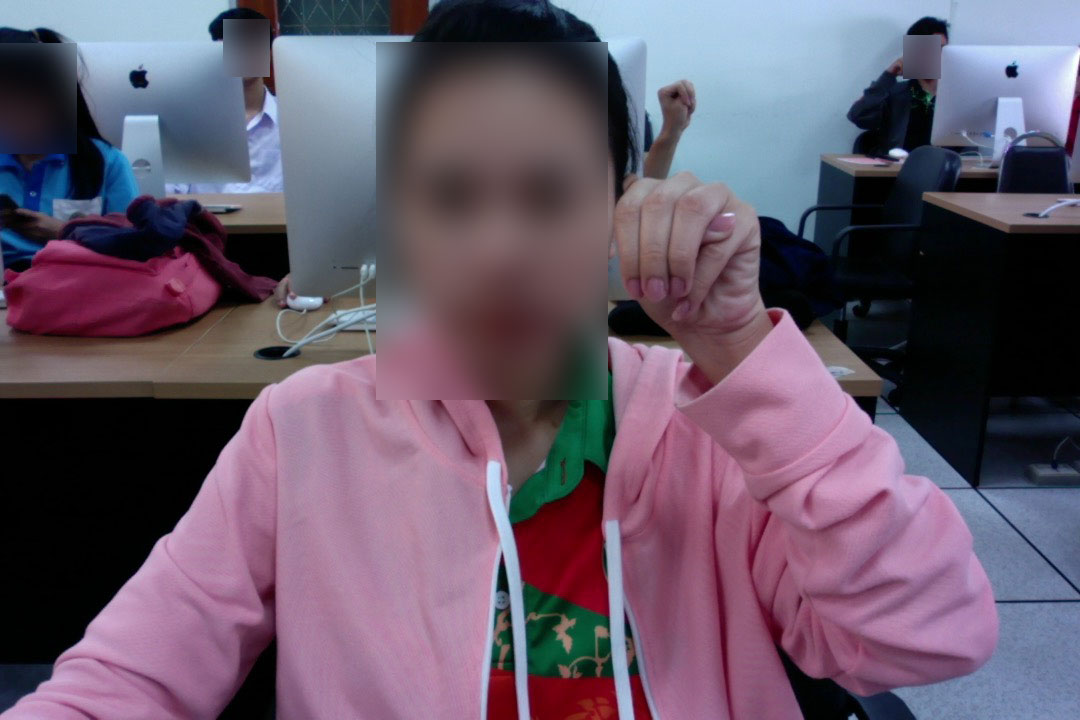mor: (609, 167, 767, 341)
